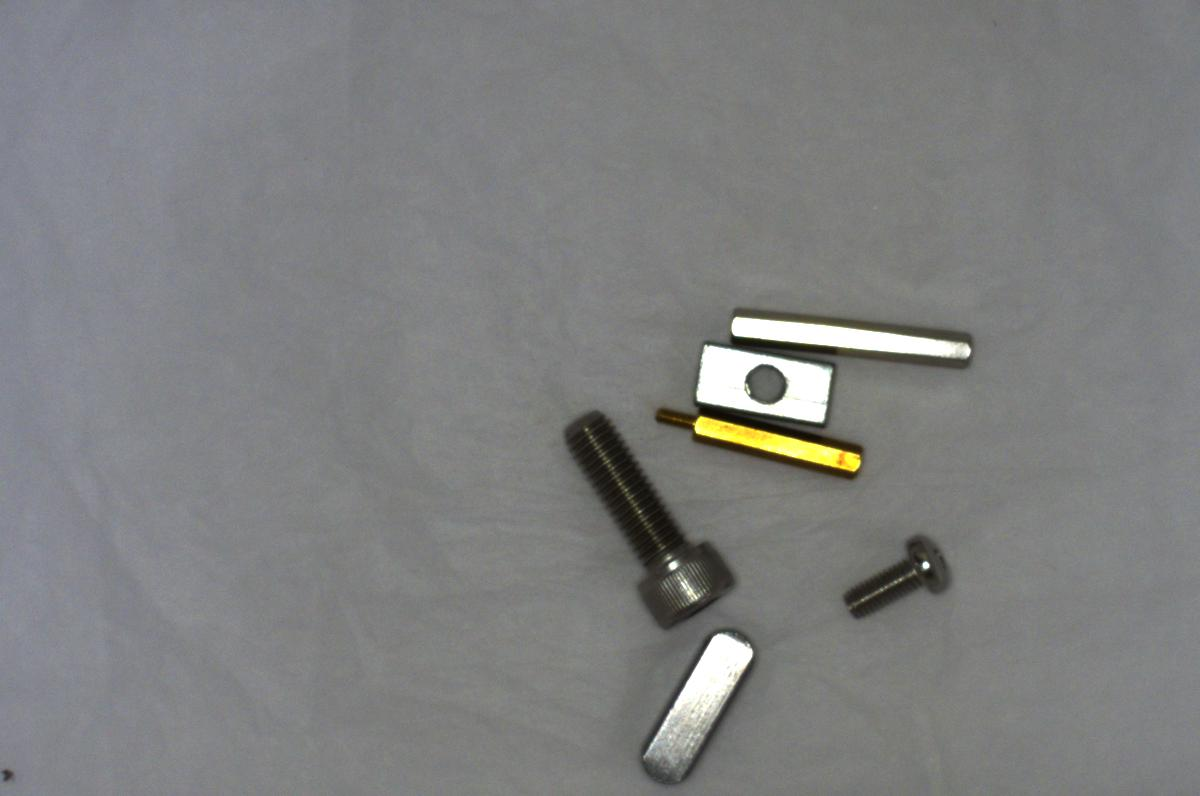Double hexagonal column: (720, 300, 974, 377)
Hexagon pillar: (644, 398, 878, 481)
Hexagon screw: (551, 403, 747, 623)
Keybar: (621, 618, 765, 782)
Rectangular nut: (685, 335, 842, 431)
Round head screw: (835, 519, 952, 631)
